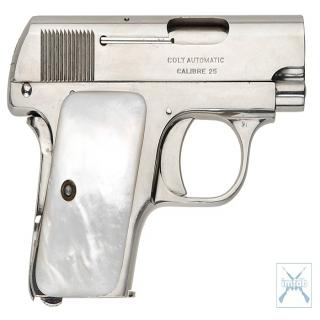gun: (4, 4, 311, 294)
